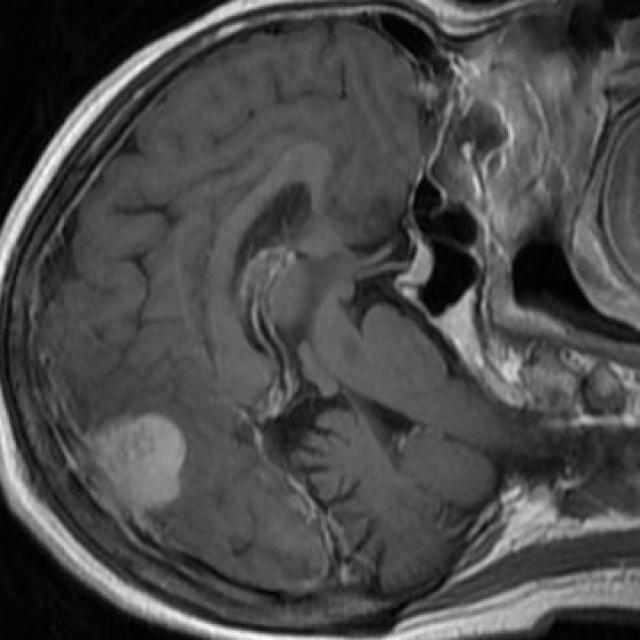meningioma: (93, 414, 187, 521)
